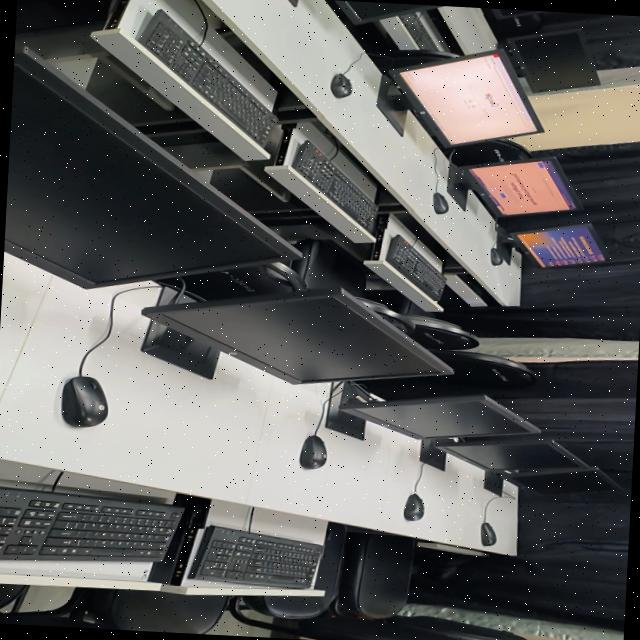Chair: (228, 533, 525, 640), (292, 241, 478, 351), (93, 590, 229, 634), (431, 351, 536, 387), (369, 50, 450, 87), (442, 140, 530, 166), (378, 87, 413, 132), (263, 262, 305, 290)
Keyboard: (139, 11, 271, 145), (0, 489, 182, 561), (189, 527, 323, 589), (291, 141, 376, 230), (385, 235, 445, 301)
Monitor: (3, 51, 298, 289), (141, 289, 452, 384), (400, 54, 535, 145), (422, 435, 617, 487), (340, 395, 540, 439), (498, 30, 600, 95), (467, 161, 578, 217), (511, 224, 606, 268), (503, 467, 620, 494), (333, 0, 447, 25)
Mouse: (61, 376, 107, 428), (299, 436, 327, 469), (403, 494, 424, 521), (481, 523, 496, 546), (433, 193, 448, 214), (491, 249, 503, 266), (346, 84, 352, 91)
